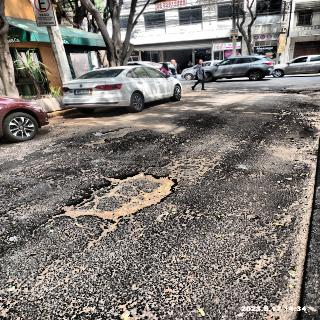alligator-crack: (165, 155, 224, 176)
pothole: (55, 168, 180, 222), (62, 124, 166, 146), (279, 89, 320, 95), (278, 110, 293, 118), (263, 90, 292, 92), (220, 107, 228, 111), (213, 110, 221, 114), (167, 124, 180, 126), (223, 111, 230, 113)
